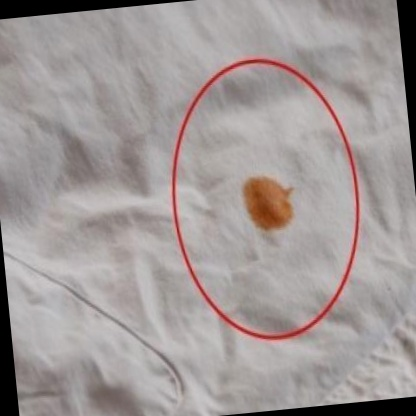kimchi: (231, 165, 313, 243)
